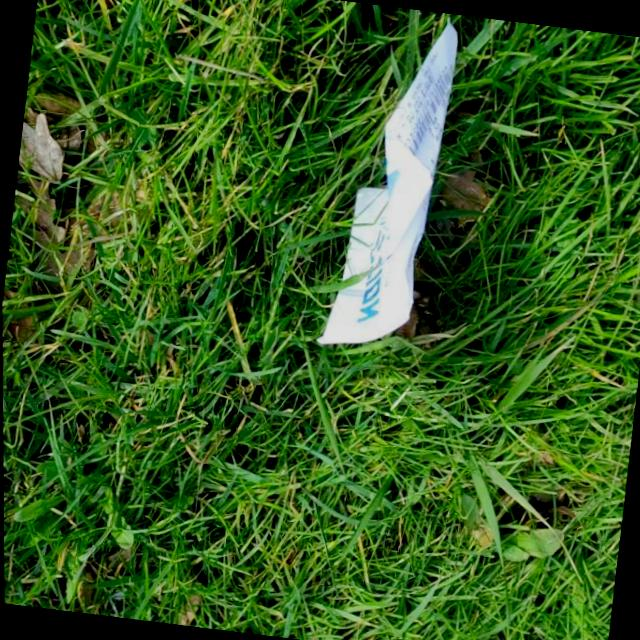Paper: (307, 13, 471, 377)
